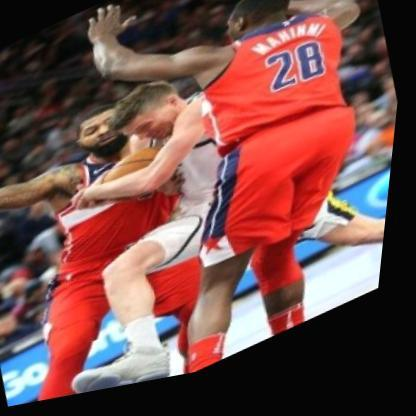basketball: (104, 147, 175, 210)
